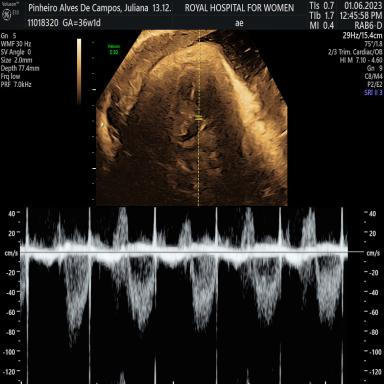Ultrasound-Waves: (29, 208, 345, 384)
